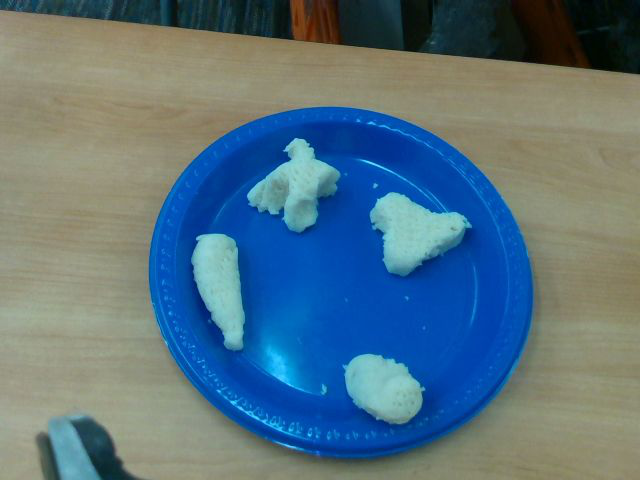mashed_potato: (247, 138, 341, 231), (370, 192, 469, 276), (192, 234, 246, 349), (345, 354, 424, 426)
